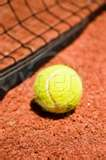tennis ball: (34, 64, 83, 114)
